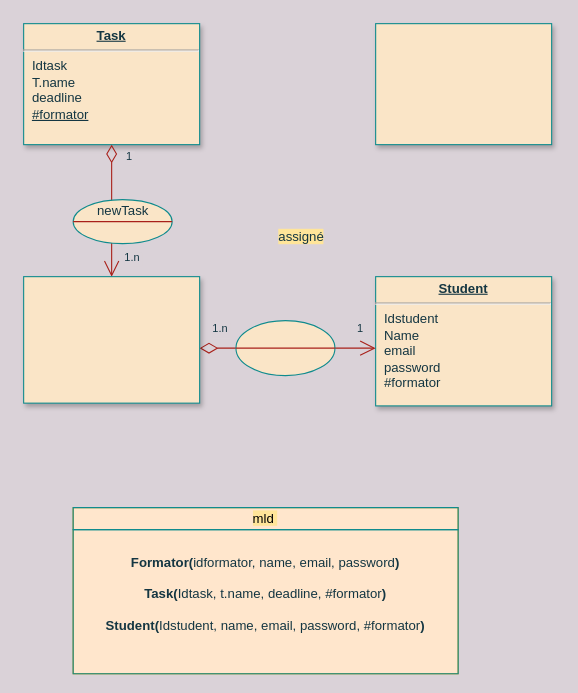
Some shapes in this 578 by 693 pixel diagram are drawn without their labels. The shapes that lost their labels are listed below. From the top down, each one's centre as x and y in pixels, then its label:
At (x=464, y=85): "Validation status.Validation #Idtask #Idformator # Idstudent".
At (x=112, y=341): "Formator Idformator Name email password".
